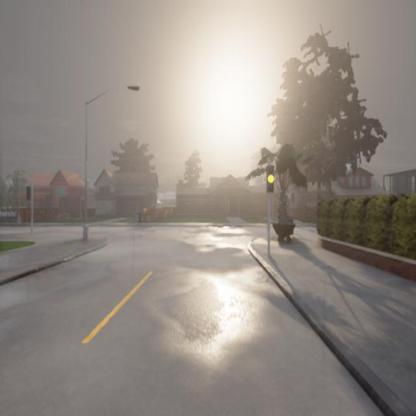traffic_light_orange: (266, 164, 274, 193)
